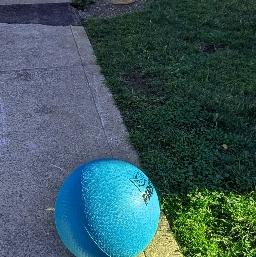algae: (56, 156, 158, 257)
